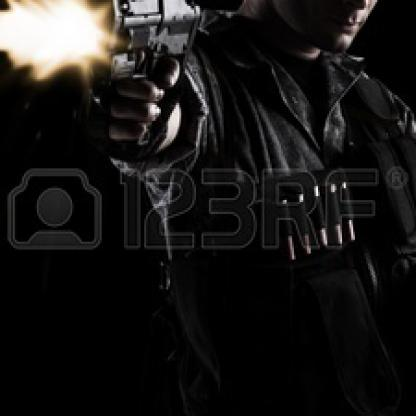gun: (62, 0, 202, 171)
